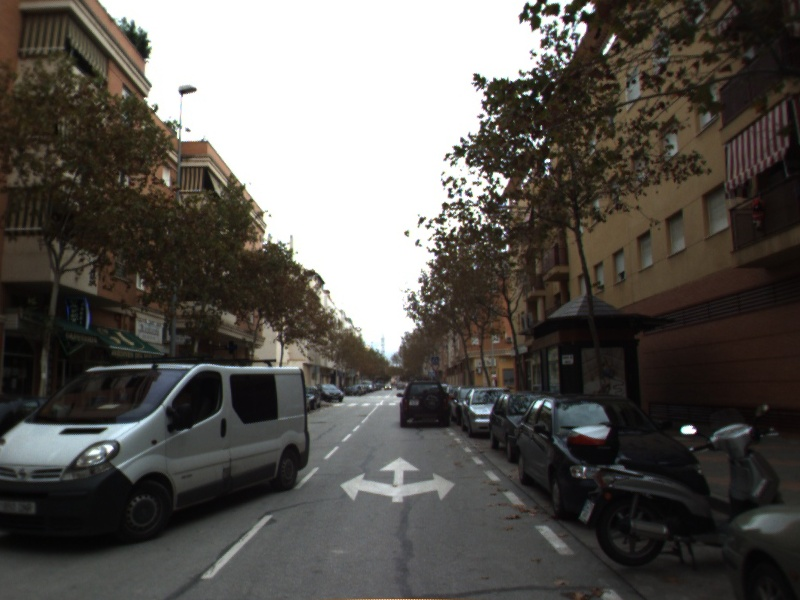STRAIGHT_LEFT_RIGHT: (338, 455, 458, 504)
